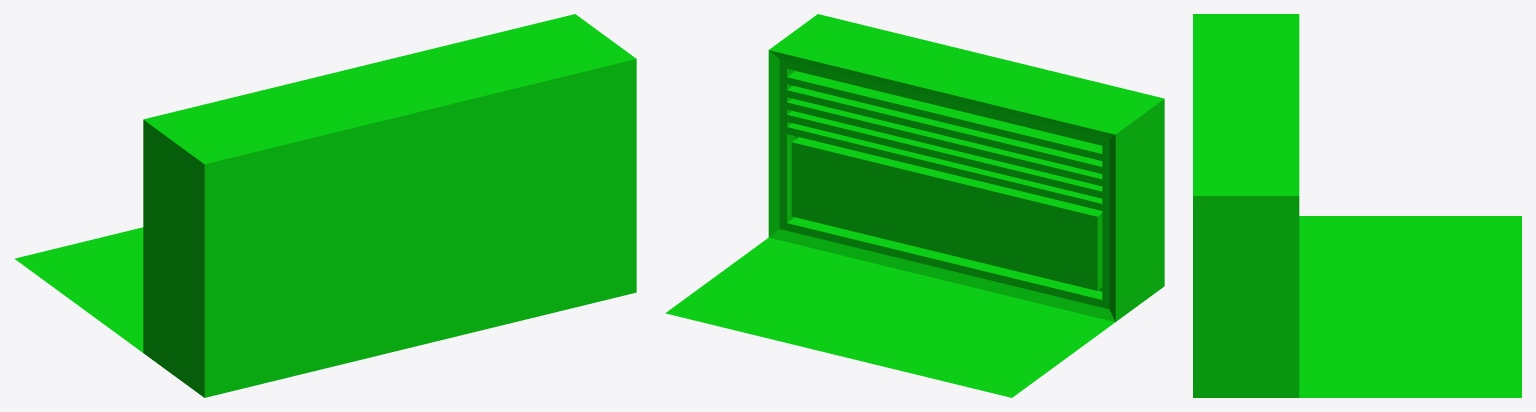
The model's file is Toxic_T2_Side_InActive.fbx.
3 views of the same model, side by side, from view 1: azimuth 30°, elevation 25°; view 2: azimuth 150°, elevation 25°; view 3: azimuth 270°, elevation 25° (orthographic). The views are drawn at different scales.
Parts seen in each view (by area): view 1: Toxic_T2_Side_InActive; view 2: Toxic_T2_Side_InActive; view 3: Toxic_T2_Side_InActive.
Part boxes in pixels (<box>): Toxic_T2_Side_InActive: <box>14,14,636,397</box>; Toxic_T2_Side_InActive: <box>665,14,1164,397</box>; Toxic_T2_Side_InActive: <box>1193,14,1521,397</box>.
Bounding box in the file's own units: 1.94 × 1.48 × 1.
